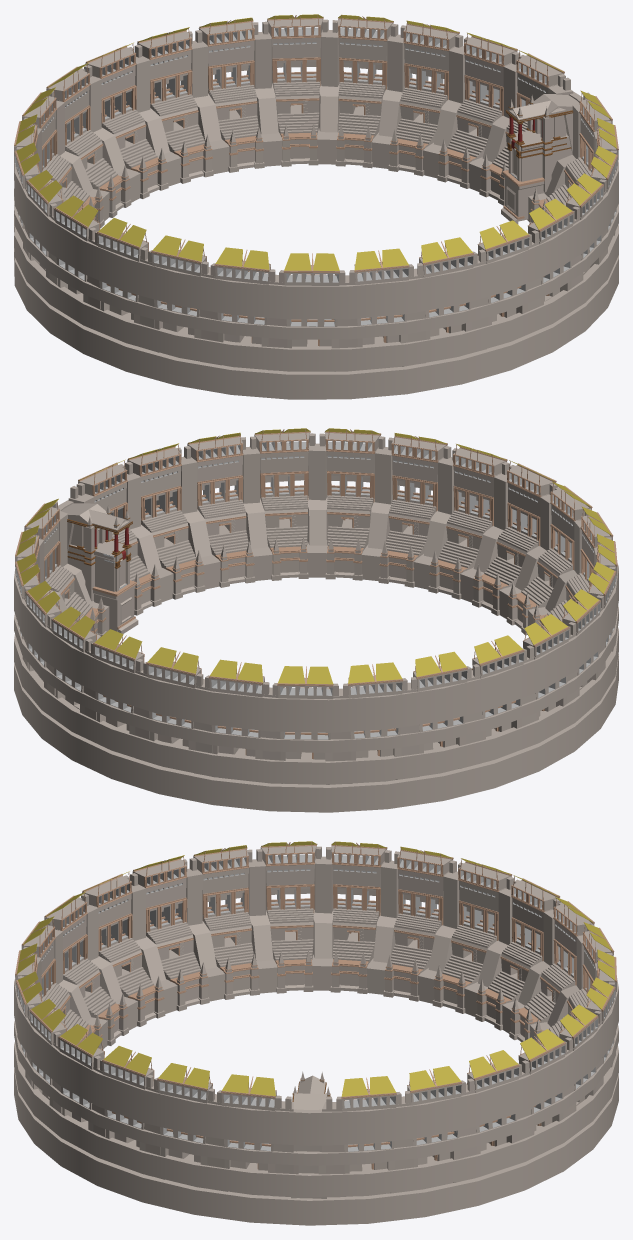
The model's file is prop_gladiator_arena.fbx.
3 views of the same model, one above another, from view 1: azimuth 30°, elevation 25°; view 2: azimuth 150°, elevation 25°; view 3: azimuth 270°, elevation 25° (orthographic).
Visible parts, largest first — view 1: walls; view 2: walls; view 3: walls.
Boxes of the visible parts, bbox=[...] form: walls: bbox=[14, 14, 618, 399]; walls: bbox=[14, 428, 618, 812]; walls: bbox=[14, 841, 618, 1225].
Bounding box in the file's own units: 292 × 292 × 73.1.
